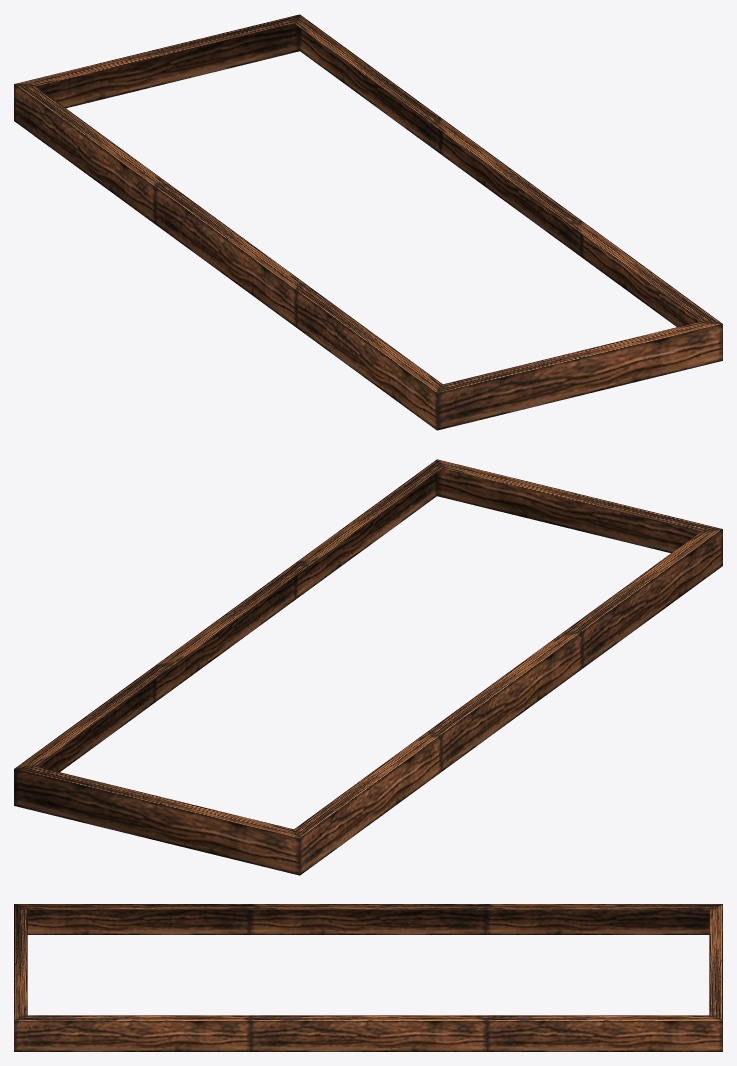
Rendered from LAKETOWN_EXTERIOR_PS_LT_BEAM1400.fbx.
3 views of the same model, one above another, from view 1: azimuth 30°, elevation 25°; view 2: azimuth 150°, elevation 25°; view 3: azimuth 270°, elevation 25° (orthographic). The views are drawn at different scales.
Visible parts, largest first — view 1: LAKETOWN_EXTERIOR_PS_LT_BEAM1400; view 2: LAKETOWN_EXTERIOR_PS_LT_BEAM1400; view 3: LAKETOWN_EXTERIOR_PS_LT_BEAM1400.
Boxes of the visible parts, x1=… form: LAKETOWN_EXTERIOR_PS_LT_BEAM1400: x1=14, y1=14, x2=722, y2=430; LAKETOWN_EXTERIOR_PS_LT_BEAM1400: x1=14, y1=459, x2=722, y2=875; LAKETOWN_EXTERIOR_PS_LT_BEAM1400: x1=14, y1=904, x2=722, y2=1051.
Bounding box in the file's own units: 27830 × 3431 × 71292.
Materials: 1 (1 with a texture image).
